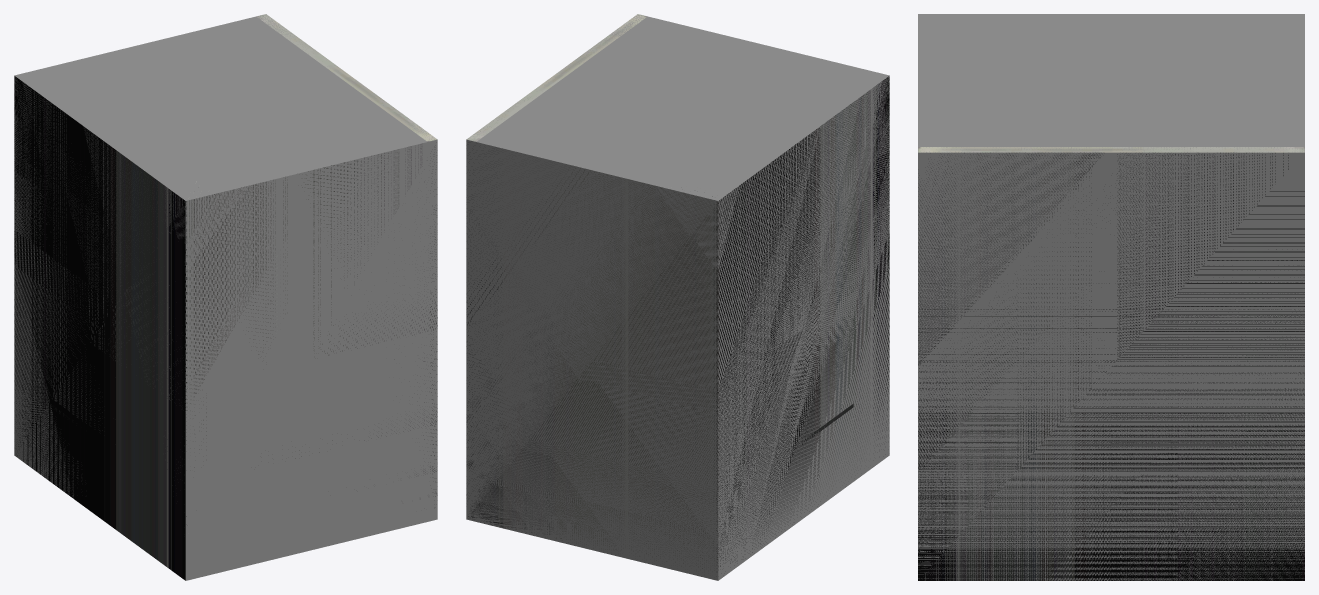
The model's file is stove.FBX.
The picture shows the model from 3 angles, left to right: view 1: azimuth 30°, elevation 25°; view 2: azimuth 150°, elevation 25°; view 3: azimuth 270°, elevation 25°; orthographic projection. The views are drawn at different scales.
Parts seen in each view (by area): view 1: bounds, colbox-1, stove100; view 2: bounds, colbox-1, stove100; view 3: bounds, colbox-1, stove100.
Part boxes in pixels (<box>): bounds: <box>14,14,437,580</box>; colbox-1: <box>14,76,437,580</box>; stove100: <box>50,14,437,425</box>; bounds: <box>466,14,889,580</box>; colbox-1: <box>466,76,889,571</box>; stove100: <box>466,14,853,451</box>; bounds: <box>918,14,1304,580</box>; colbox-1: <box>918,152,1304,580</box>; stove100: <box>918,147,1304,152</box>.
Size of the model in its own units: 81.49 by 117 by 96.07.
